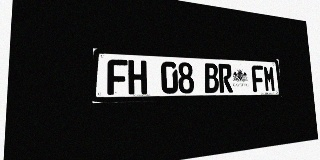0: (161, 61, 178, 94)
8: (178, 62, 194, 93)
B: (204, 63, 219, 93)
F: (107, 59, 127, 95), (251, 65, 265, 92)
H: (128, 60, 147, 94)
M: (263, 66, 276, 92)
R: (218, 64, 233, 93)
